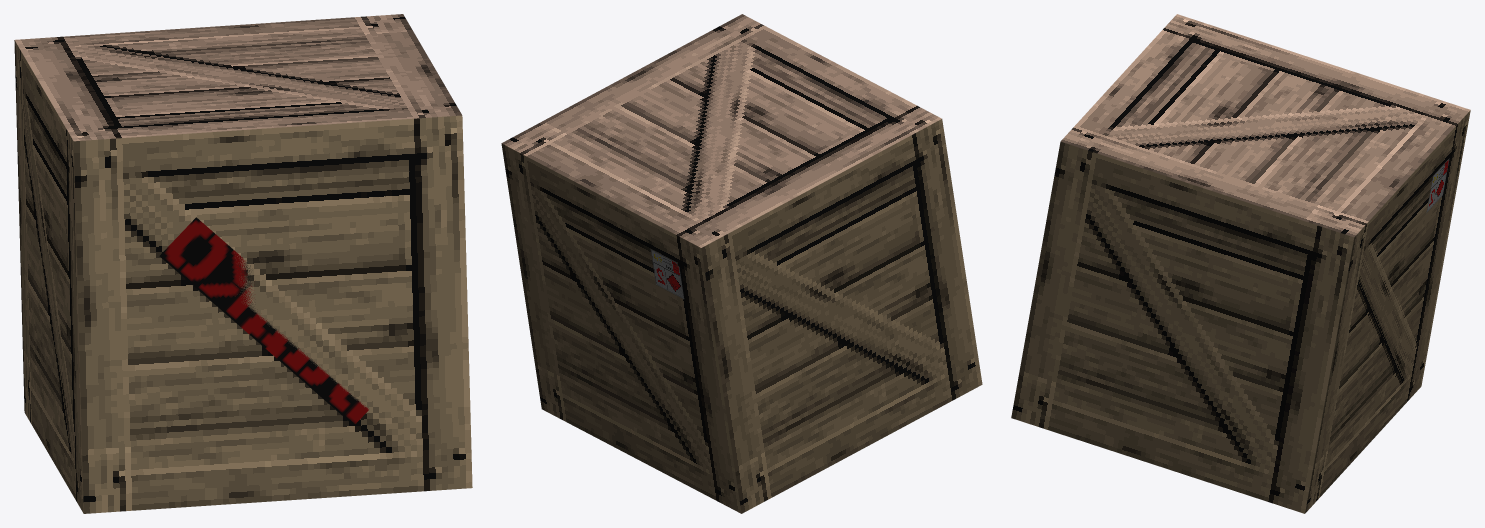
File: primary_130.glb
3 views of the same model, side by side, from view 1: azimuth 30°, elevation 25°; view 2: azimuth 150°, elevation 25°; view 3: azimuth 270°, elevation 25° (orthographic). The views are drawn at different scales.
Parts seen in each view (by area): view 1: Object; view 2: Object; view 3: Object.
Part boxes in pixels (bbox=[...]): Object: bbox=[14, 14, 472, 513]; Object: bbox=[501, 14, 982, 513]; Object: bbox=[1011, 14, 1470, 513].
Size of the model in its own units: 1.35 by 1.14 by 1.43.
7 materials, 7 textured.
